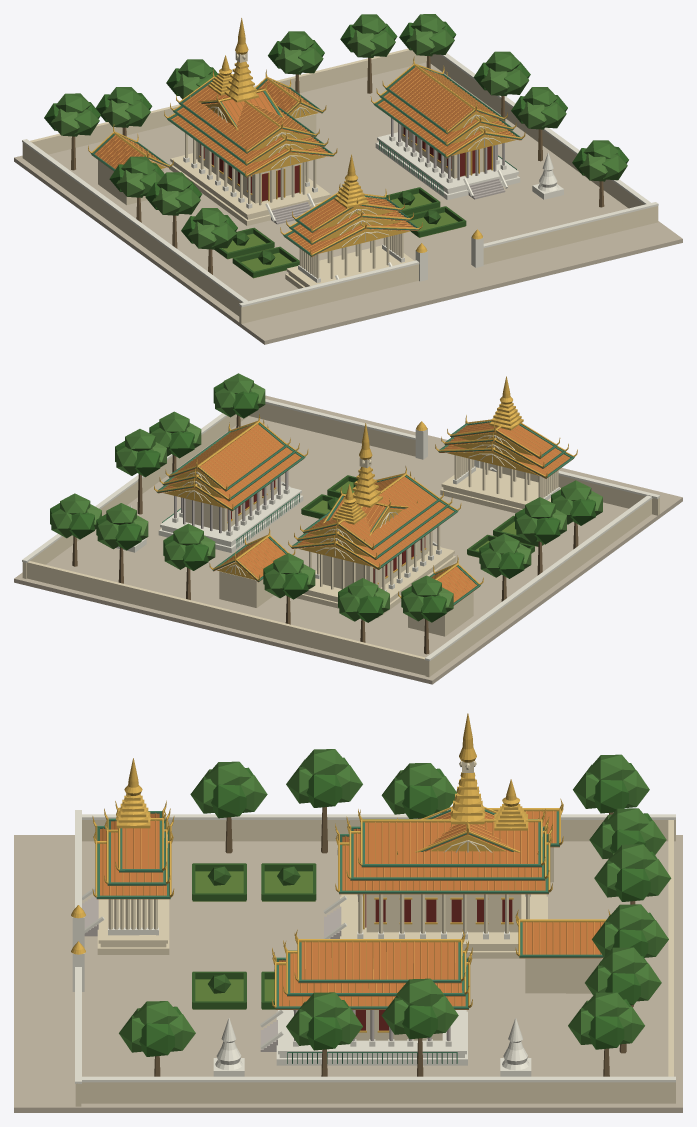
The model's file is royal-palace-normal.glb.
3 renders of one model, top to bottom at view 1: azimuth 30°, elevation 25°; view 2: azimuth 150°, elevation 25°; view 3: azimuth 270°, elevation 25°, orthographic. The views are drawn at different scales.
Parts seen in each view (by area): view 1: Courtyard paving, Warm ivory plaster, Orange glazed tile, Gilded ochre ornament, Canopy 1, Lime white mouldings, Canopy 2, Sunlit tile ribs, Green roof borders, Canopy 0, Clipped hedges, Warm grey marble (+3 smaller); view 2: Courtyard paving, Warm ivory plaster, Orange glazed tile, Canopy 1, Gilded ochre ornament, Canopy 0, Lime white mouldings, Sunlit tile ribs, Green roof borders, Canopy 2, Tree trunks, Clipped hedges (+2 smaller); view 3: Courtyard paving, Warm ivory plaster, Orange glazed tile, Canopy 1, Lime white mouldings, Gilded ochre ornament, Canopy 0, Green roof borders, Sunlit tile ribs, Clipped hedges, Formal lawns, Warm grey marble (+2 smaller).
Part boxes in pixels (x1,y1,x2,y2): Courtyard paving: (14,62,682,344); Warm ivory plaster: (22,48,658,323); Orange glazed tile: (92,67,521,256); Gilded ochre ornament: (88,18,525,255); Canopy 1: (55,14,627,248); Lime white mouldings: (22,53,658,307); Canopy 2: (51,28,607,249); Sunlit tile ribs: (95,67,517,252); Green roof borders: (91,66,522,256); Canopy 0: (44,21,628,243); Clipped hedges: (214,187,466,277); Warm grey marble: (271,118,505,224); Courtyard paving: (14,395,682,684); Warm ivory plaster: (22,403,659,677); Orange glazed tile: (158,423,572,605); Canopy 1: (51,373,591,621); Gilded ochre ornament: (154,376,577,598); Canopy 0: (50,382,595,622); Lime white mouldings: (22,399,660,661); Sunlit tile ribs: (162,422,569,601); Green roof borders: (157,421,574,605); Canopy 2: (87,383,602,612); Tree trunks: (72,415,578,654); Clipped hedges: (301,475,543,557); Courtyard paving: (14,835,682,1112); Warm ivory plaster: (75,761,675,1106); Orange glazed tile: (97,811,604,1009); Canopy 1: (119,749,671,1052); Lime white mouldings: (72,810,675,1083); Gilded ochre ornament: (71,713,610,1032); Canopy 0: (139,757,657,1056); Green roof borders: (96,809,603,1063); Sunlit tile ribs: (102,810,601,1006); Clipped hedges: (192,863,316,1009); Formal lawns: (192,871,315,1009); Warm grey marble: (82,896,450,1051).
Bounding box in the file's own units: 27 × 10.29 × 28.
